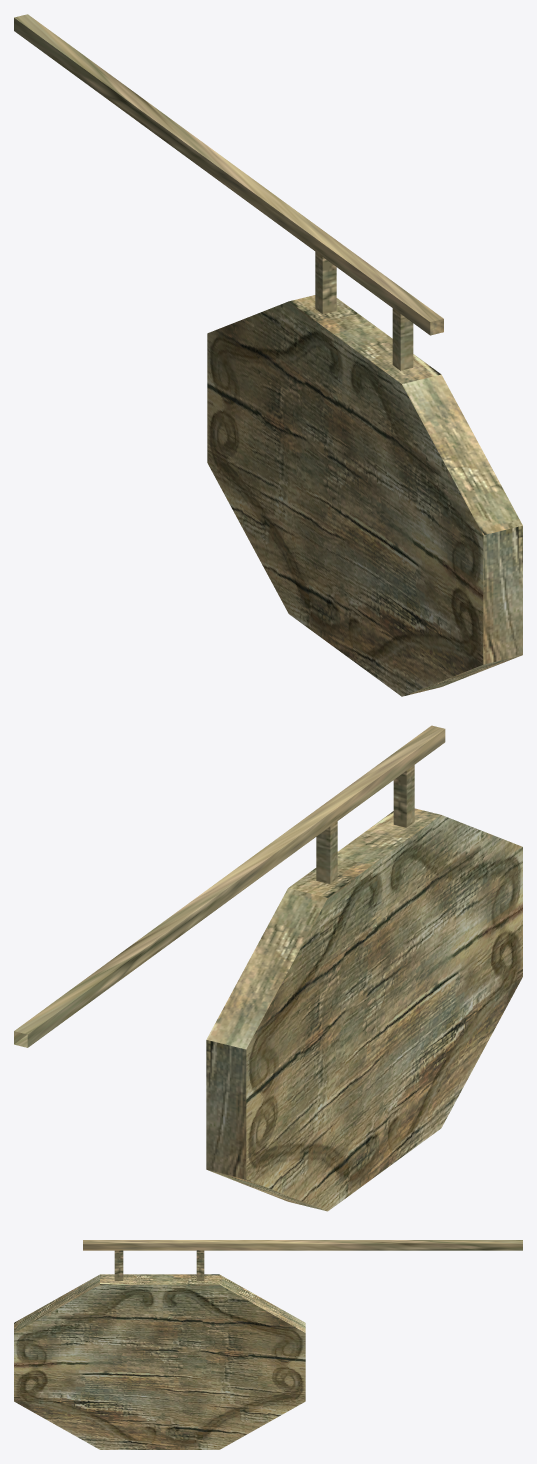
The model's file is sign.glb.
3 renders of one model, top to bottom at view 1: azimuth 30°, elevation 25°; view 2: azimuth 150°, elevation 25°; view 3: azimuth 270°, elevation 25°, orthographic. The views are drawn at different scales.
Parts seen in each view (by area): view 1: sign-col; view 2: sign-col; view 3: sign-col.
Part boxes in pixels (x1=…): sign-col: x1=14, y1=14, x2=522, y2=696; sign-col: x1=14, y1=725, x2=522, y2=1211; sign-col: x1=14, y1=1240, x2=522, y2=1449.
Size of the model in its own units: 0.1227 by 1.13 by 2.57.
Materials: 1 (1 with a texture image).
